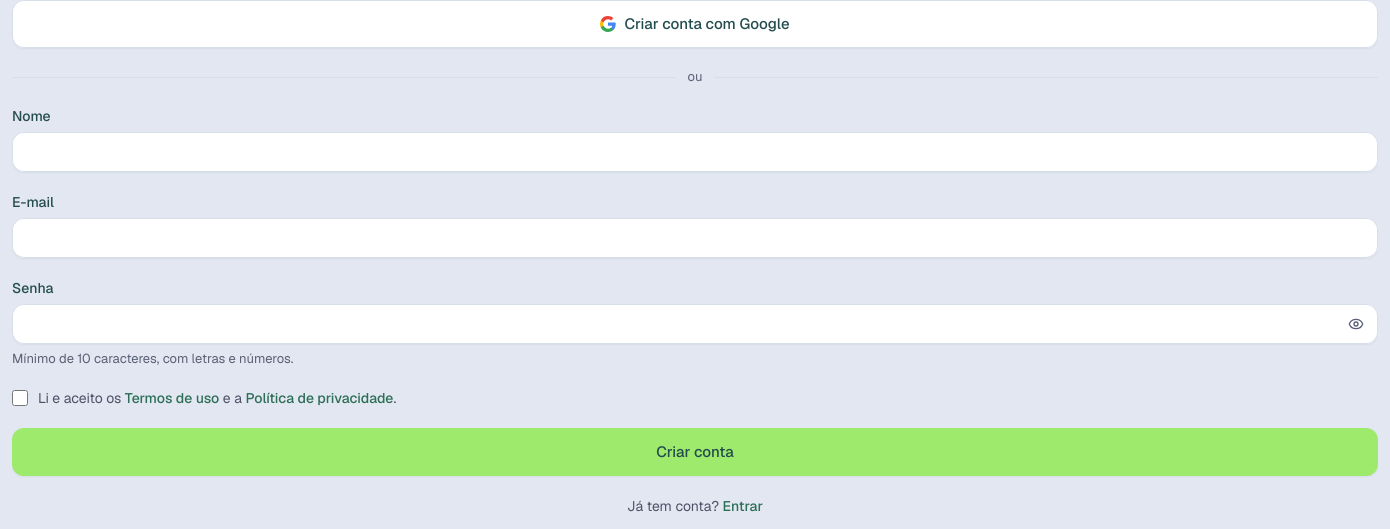
Test case: RegisterForm › mostra a tela neutra de e-mail quando a confirmação é exigida
Type "Ana Souza" into the field labelled "Nome".
click(695, 152); type("Ana Souza")  # box [12,132,1378,172]
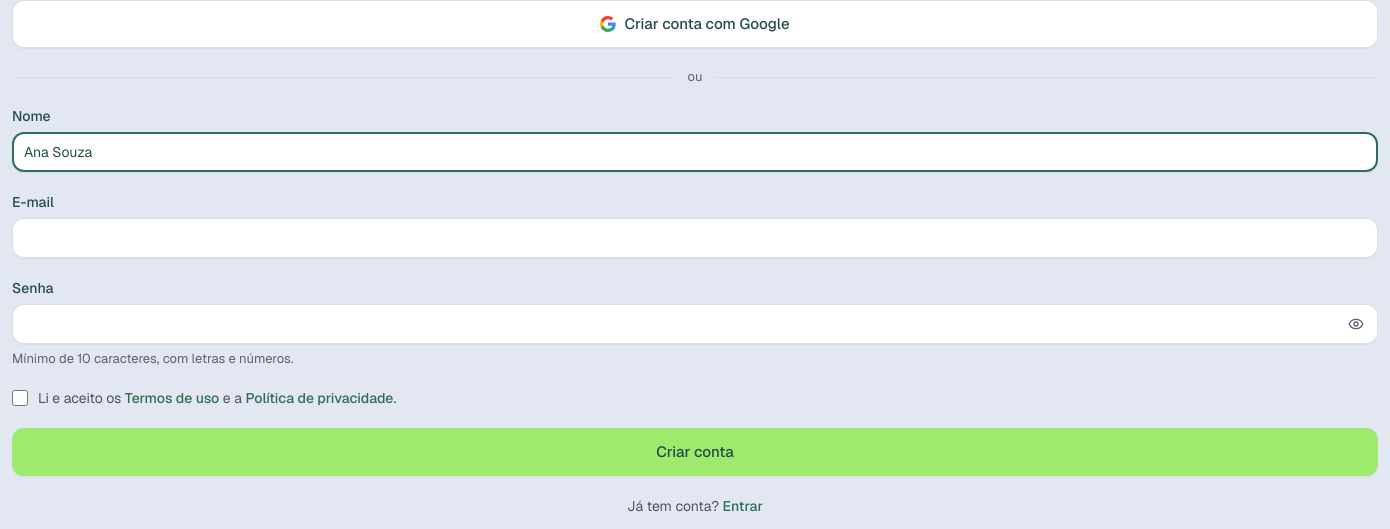
Type "ana@exemplo.com" into the field labelled "E-mail".
click(695, 238); type("ana@exemplo.com")  # box [12,218,1378,258]
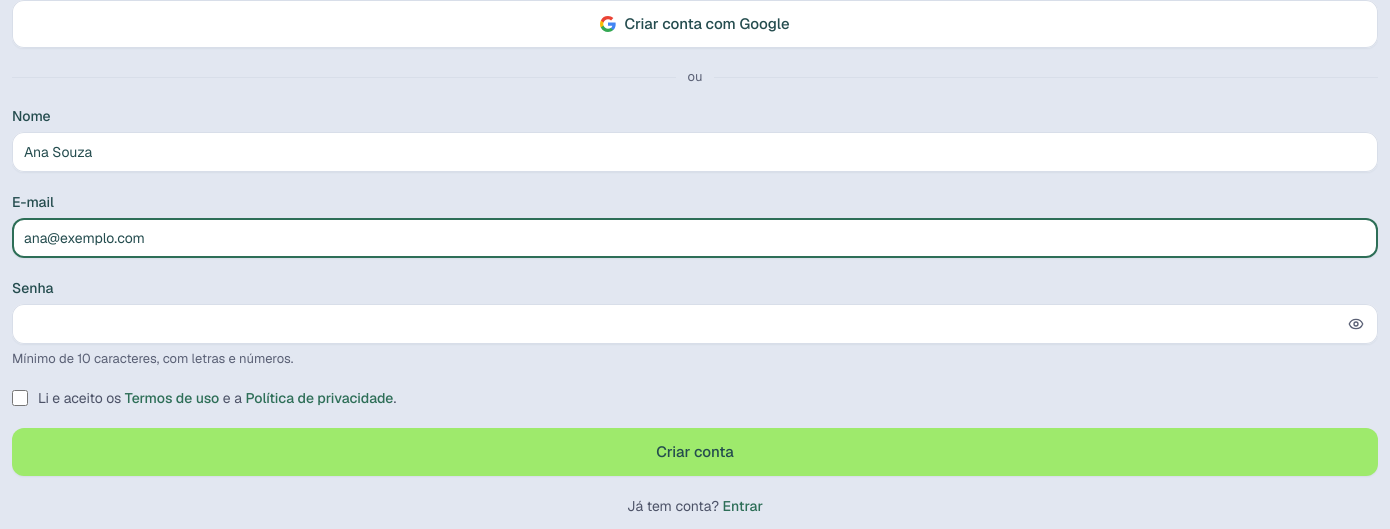
Type "senhaforte123" into the password field labelled "Senha".
click(695, 324); type("senhaforte123")  # box [12,304,1378,344]
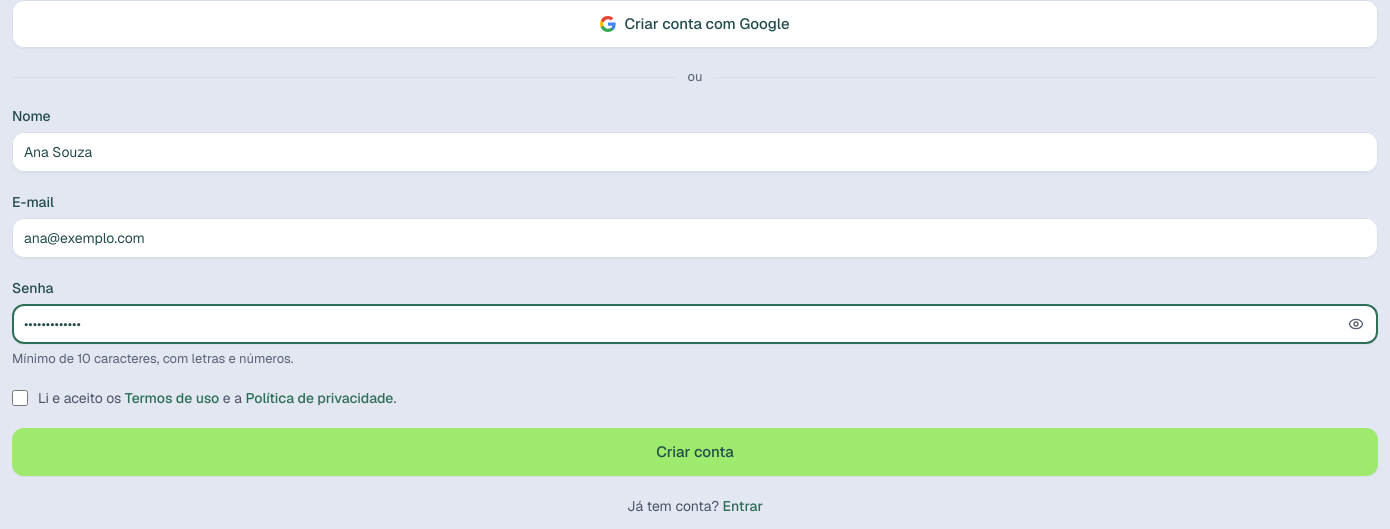
Click the checkbox.
click(20, 398)  # box [12,390,28,406]
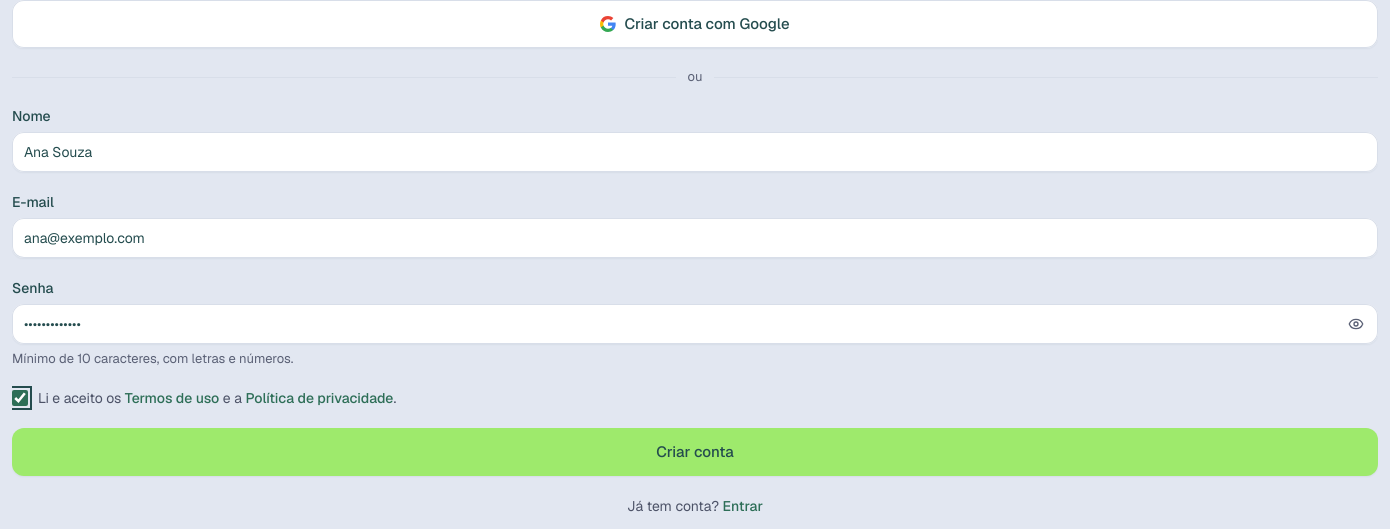
Click the button "Criar conta".
click(695, 452)  # box [12,428,1378,476]
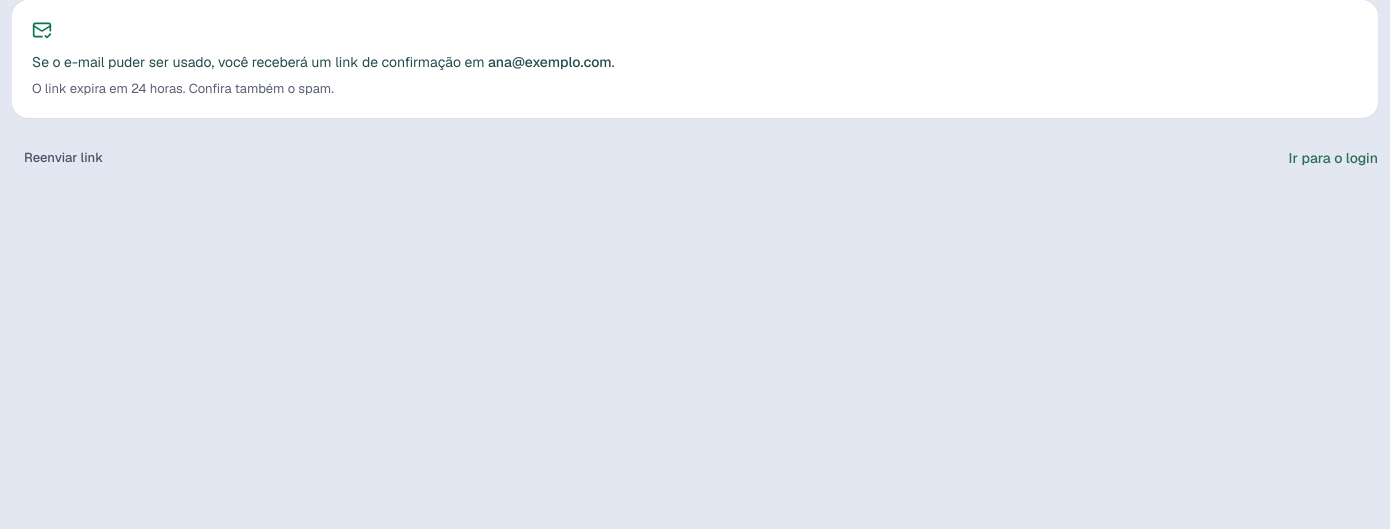
Expected: the text "ana@exemplo.com" is shown, [488,53,612,71]
